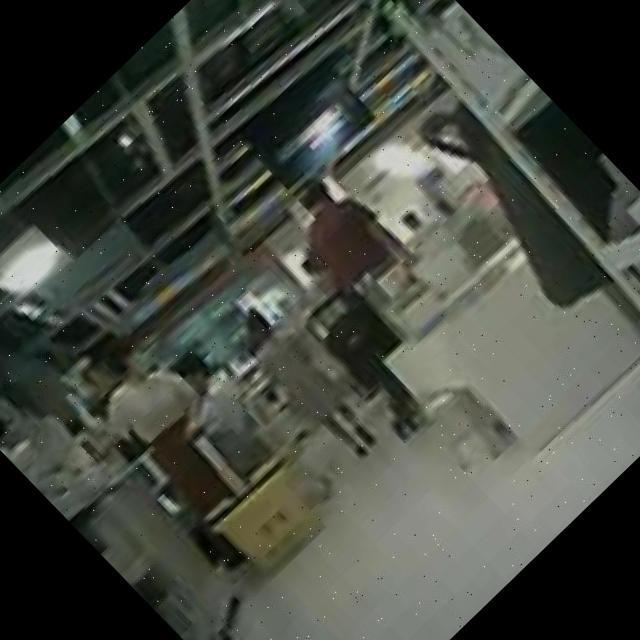person: (56, 333, 270, 549), (224, 298, 395, 472), (266, 162, 417, 315), (150, 338, 296, 488)
